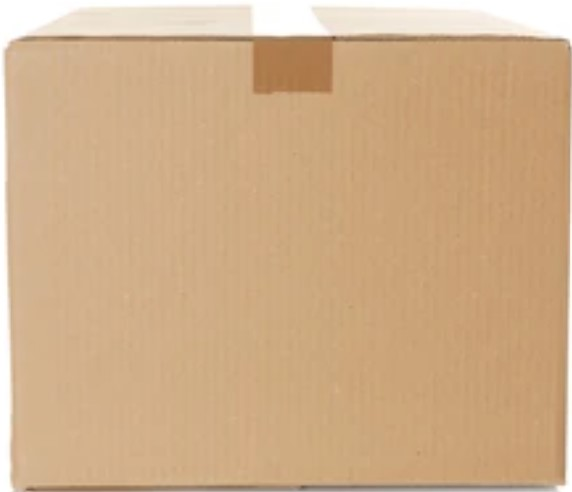stock: (6, 6, 572, 490)
